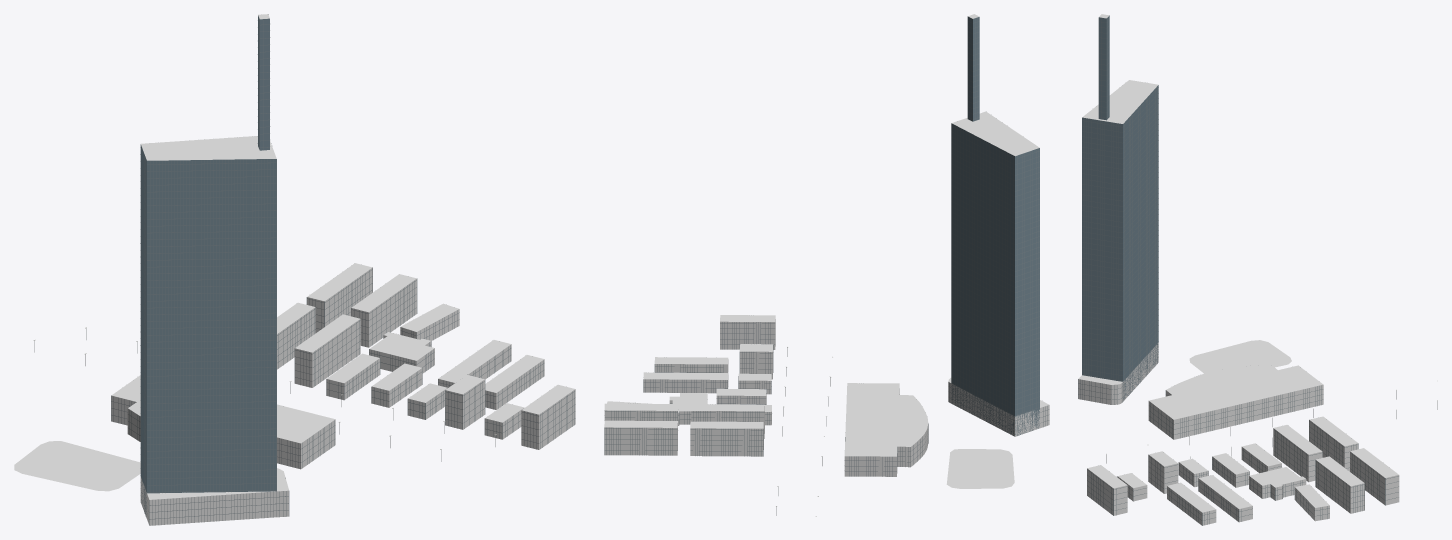
3 views of the same model, side by side, from view 1: azimuth 30°, elevation 25°; view 2: azimuth 150°, elevation 25°; view 3: azimuth 270°, elevation 25° (orthographic). The views are drawn at different scales.
Parts seen in each view (by area): view 1: 4_-2_超高层蓝灰幕墙, 4_-2_城市金属细框, 4_-2_v02 米白石材, 4_-2_v02 深灰屋面, 4_-2_v02 草地; view 2: 4_-2_超高层蓝灰幕墙, 4_-2_城市金属细框, 4_-2_v02 米白石材, 4_-2_v02 深灰屋面, 4_-2_v02 草地; view 3: 4_-2_超高层蓝灰幕墙, 4_-2_v02 米白石材, 4_-2_城市金属细框, 4_-2_v02 深灰屋面, 4_-2_v02 草地.
Boxes of the visible parts, bbox=[...] form: 4_-2_超高层蓝灰幕墙: bbox=[140, 15, 276, 517]; 4_-2_城市金属细框: bbox=[111, 14, 575, 525]; 4_-2_v02 米白石材: bbox=[111, 268, 575, 525]; 4_-2_v02 深灰屋面: bbox=[111, 14, 574, 499]; 4_-2_v02 草地: bbox=[14, 441, 140, 491]; 4_-2_超高层蓝灰幕墙: bbox=[951, 16, 1039, 436]; 4_-2_城市金属细框: bbox=[604, 18, 1049, 476]; 4_-2_v02 米白石材: bbox=[604, 319, 1049, 476]; 4_-2_v02 深灰屋面: bbox=[604, 14, 1049, 456]; 4_-2_v02 草地: bbox=[946, 449, 1014, 488]; 4_-2_超高层蓝灰幕墙: bbox=[1082, 15, 1158, 399]; 4_-2_v02 米白石材: bbox=[1078, 343, 1399, 525]; 4_-2_城市金属细框: bbox=[1078, 17, 1398, 525]; 4_-2_v02 深灰屋面: bbox=[1078, 14, 1398, 512]; 4_-2_v02 草地: bbox=[1189, 340, 1291, 373].
Bounding box in the file's own units: 303 × 288 × 247.
